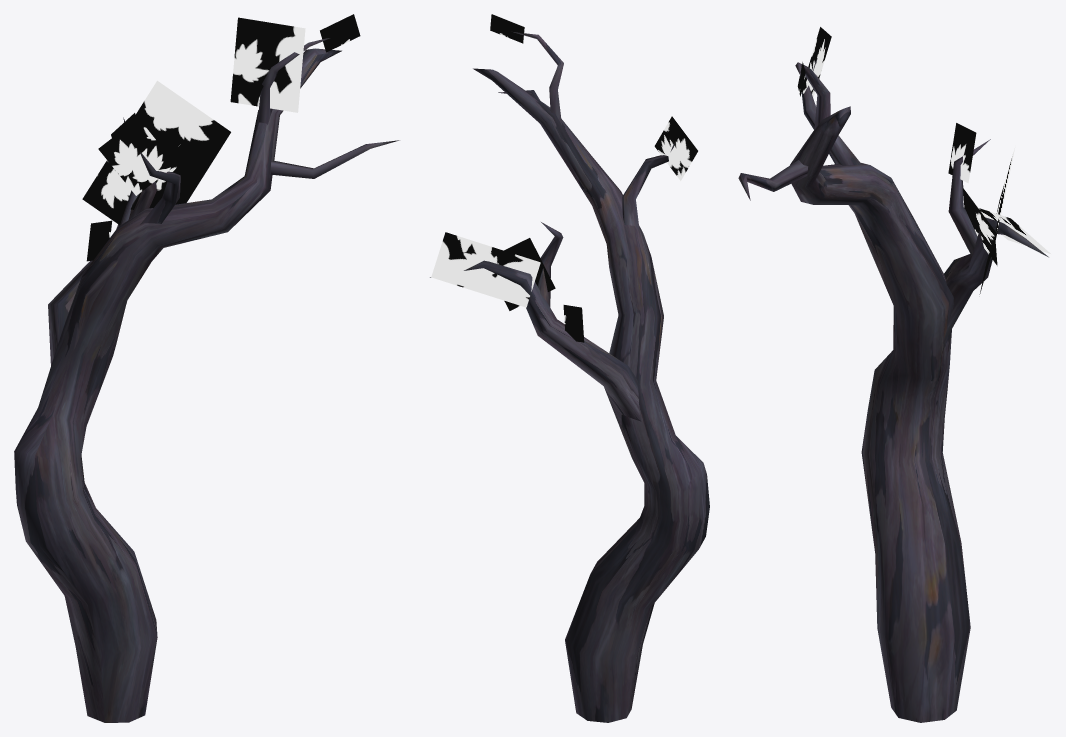
Rendered from P_TreeWindsweptSaplingB01.obj.
The picture shows the model from 3 angles, left to right: view 1: azimuth 30°, elevation 25°; view 2: azimuth 150°, elevation 25°; view 3: azimuth 270°, elevation 25°; orthographic projection. The views are drawn at different scales.
Size of the model in its own units: 1.99 by 4.33 by 1.67.
